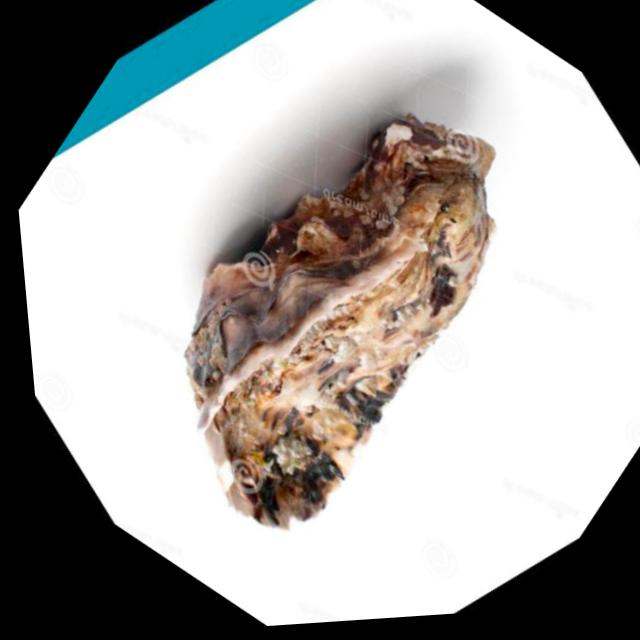Oyster-Closed: (185, 114, 495, 527)
